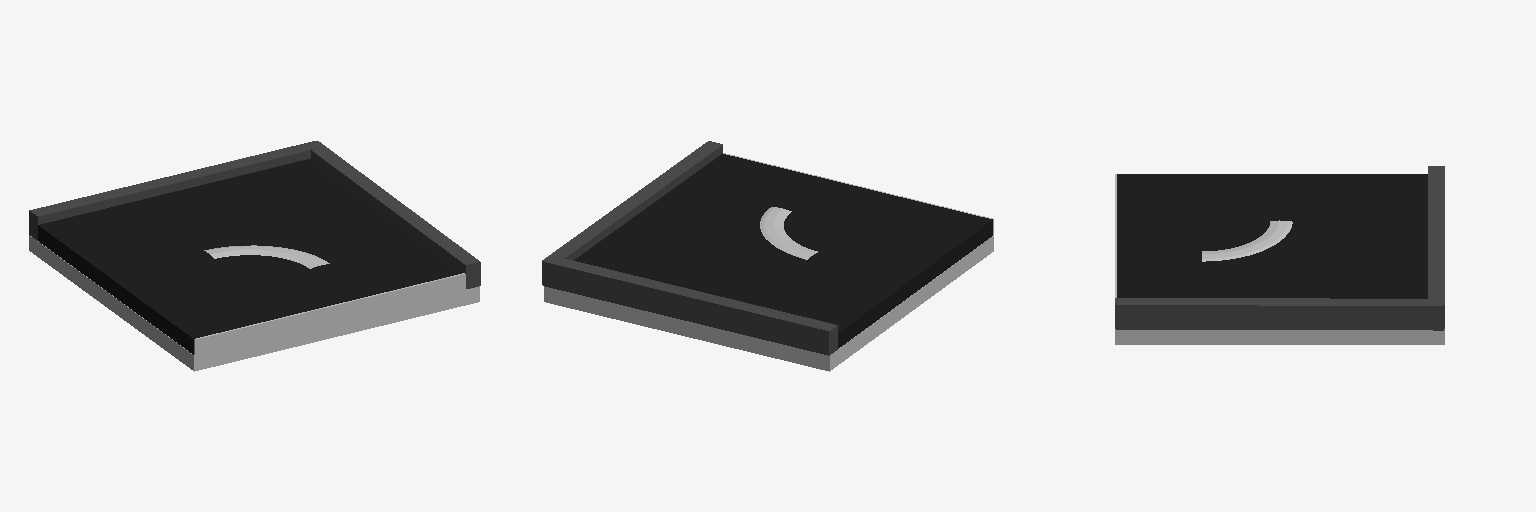
File: road2.obj
3 renders of one model, left to right at view 1: azimuth 30°, elevation 25°; view 2: azimuth 150°, elevation 25°; view 3: azimuth 270°, elevation 25°, orthographic.
Visible parts, largest first — view 1: Cube; view 2: Cube; view 3: Cube.
Boxes of the visible parts, box(x1,y1,x2,y2) form: Cube: box(29, 141, 480, 371); Cube: box(542, 141, 993, 371); Cube: box(1115, 166, 1444, 344).
Bounding box in the file's own units: 2.02 × 0.2705 × 2.